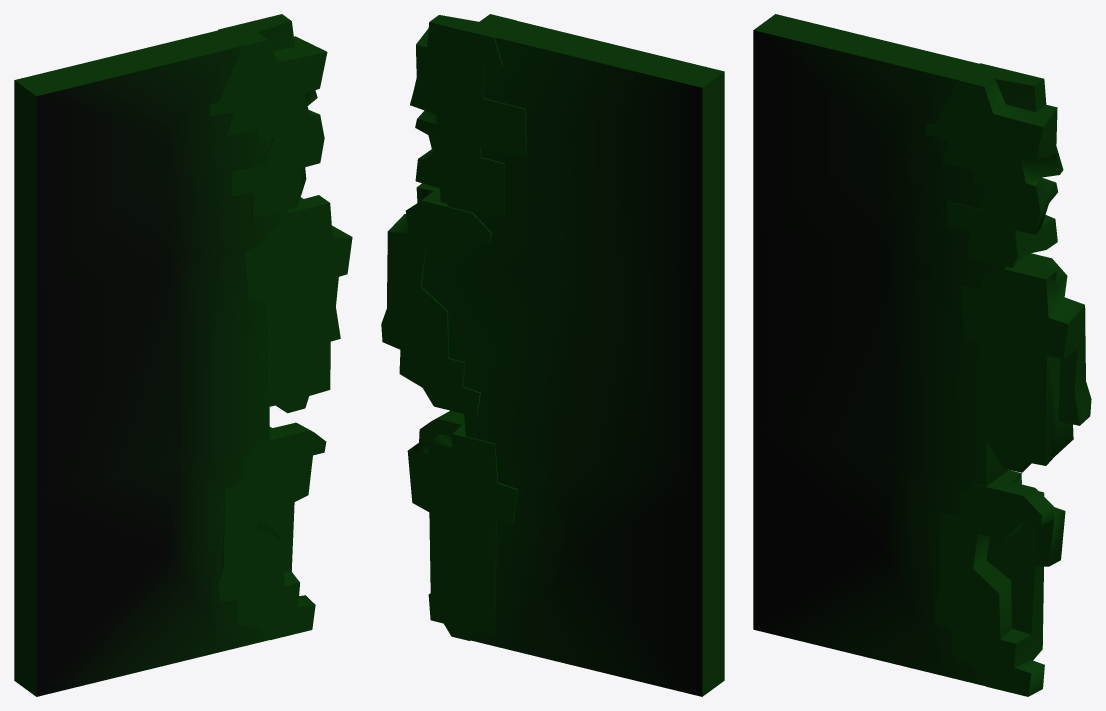
File: DBK_Brick_Side_B.fbx
3 renders of one model, left to right at view 1: azimuth 30°, elevation 25°; view 2: azimuth 150°, elevation 25°; view 3: azimuth 330°, elevation 25°, orthographic.
Parts seen in each view (by area): view 1: DBK_Brick_Side_B; view 2: DBK_Brick_Side_B; view 3: DBK_Brick_Side_B.
Part boxes in pixels (bbox=[...]): DBK_Brick_Side_B: bbox=[14, 14, 352, 696]; DBK_Brick_Side_B: bbox=[381, 14, 724, 696]; DBK_Brick_Side_B: bbox=[753, 14, 1091, 696].
Size of the model in its own units: 165 by 300 by 21.
